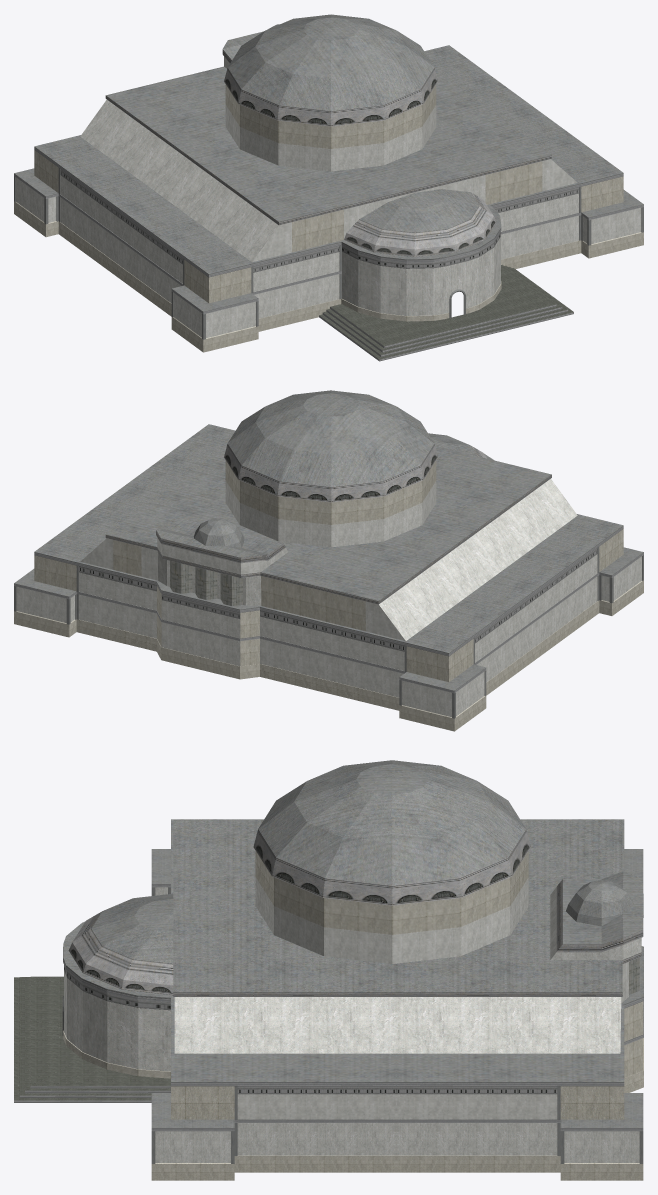
File: mun_corl_hotel_s01_r0_hotel_mesh_exterior_l0.fbx
3 views of the same model, one above another, from view 1: azimuth 30°, elevation 25°; view 2: azimuth 150°, elevation 25°; view 3: azimuth 270°, elevation 25° (orthographic). The views are drawn at different scales.
Visible parts, largest first — view 1: mesh_node; view 2: mesh_node; view 3: mesh_node.
Part boxes in pixels (box(x1,y1,x2,y2)): mesh_node: box(14, 14, 643, 361); mesh_node: box(14, 390, 643, 731); mesh_node: box(14, 760, 643, 1180).
Bounding box in the file's own units: 59.56 × 26.29 × 56.85.
